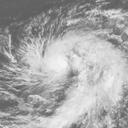cyclone: (38, 30, 127, 114)
